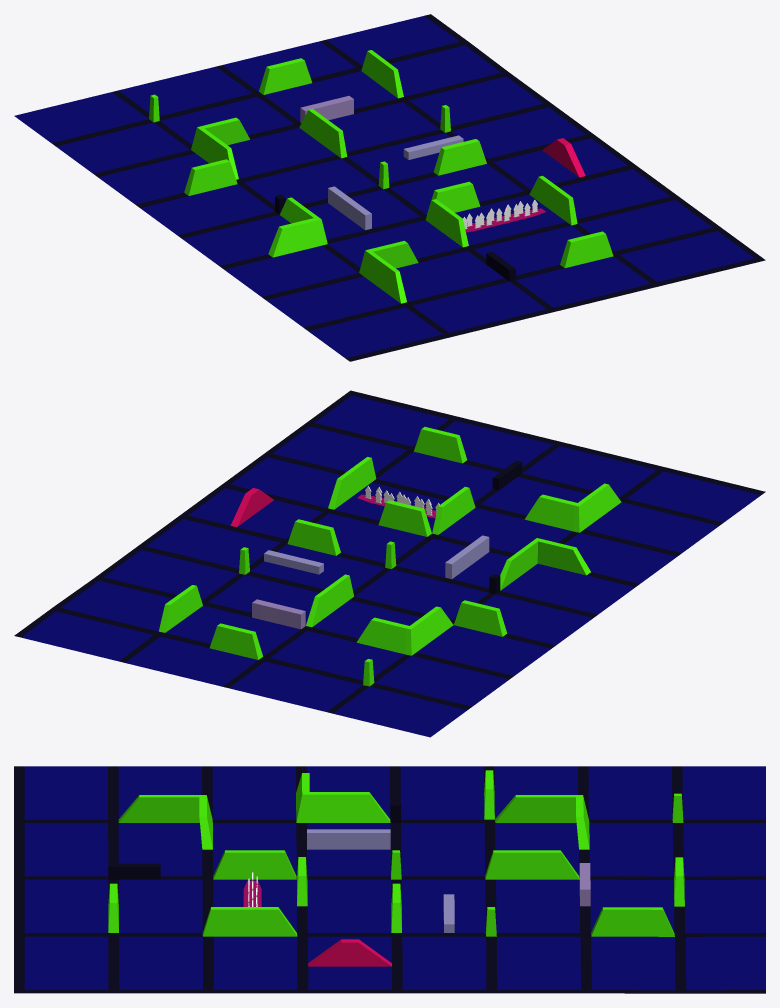
The picture shows the model from 3 angles, top to bottom: view 1: azimuth 30°, elevation 25°; view 2: azimuth 150°, elevation 25°; view 3: azimuth 270°, elevation 25°; orthographic projection. The views are drawn at different scales.
Visible parts, largest first — view 1: Boîte001 (×2); view 2: Boîte001 (×2); view 3: Boîte001, Boîte002.
Boxes of the visible parts, bbox=[...] form: Boîte001 (×2): bbox=[14, 14, 765, 361]; Boîte001 (×2): bbox=[14, 390, 765, 737]; Boîte001: bbox=[14, 766, 765, 993]; Boîte002: bbox=[243, 880, 261, 906].
Bounding box in the file's own units: 135 × 7.32 × 188.
